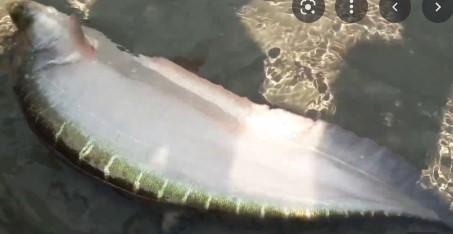Knifefish: (6, 0, 452, 227)
